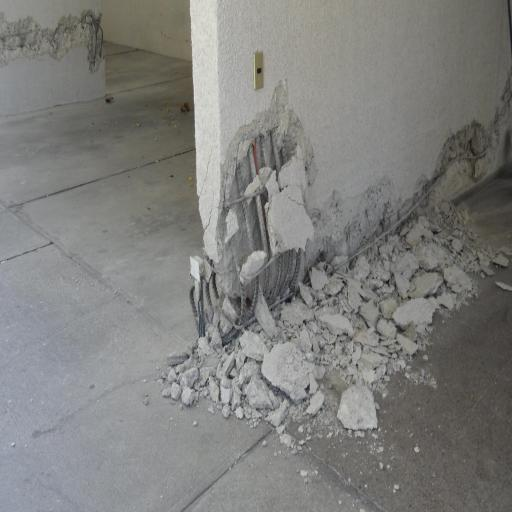spalling: (191, 85, 497, 358), (0, 13, 104, 71)
